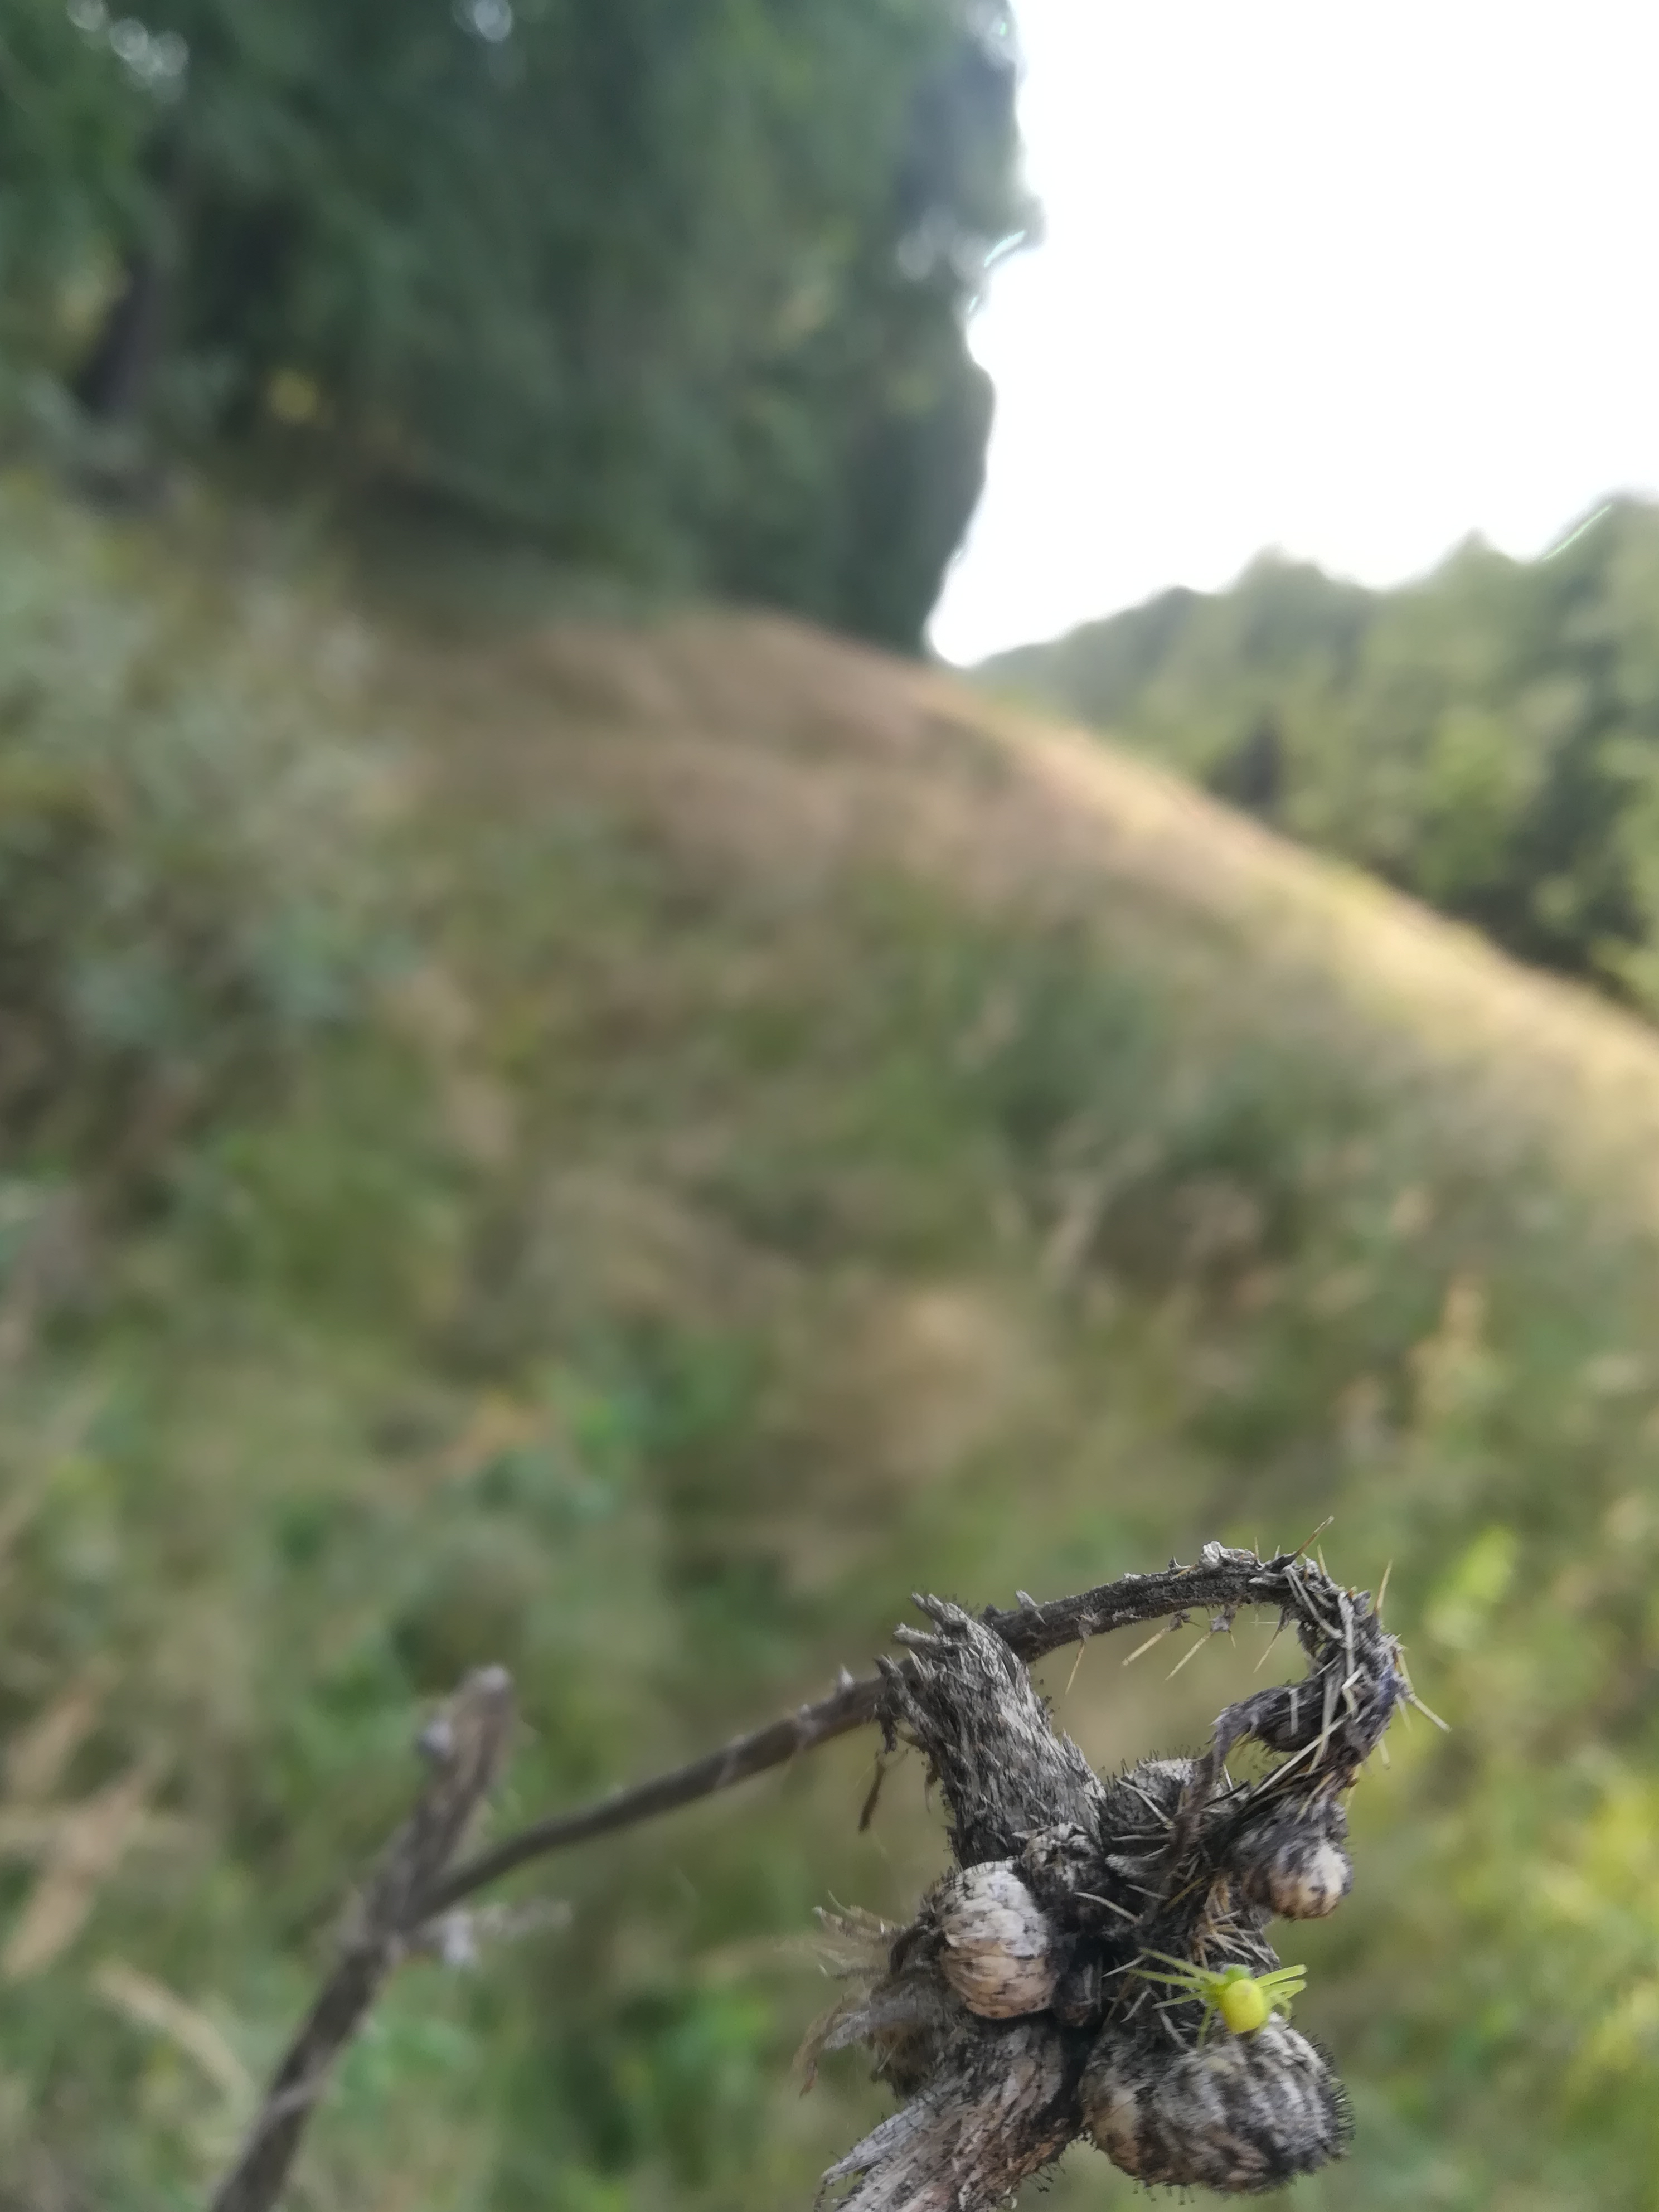spider: (1114, 1923, 1352, 2076)
